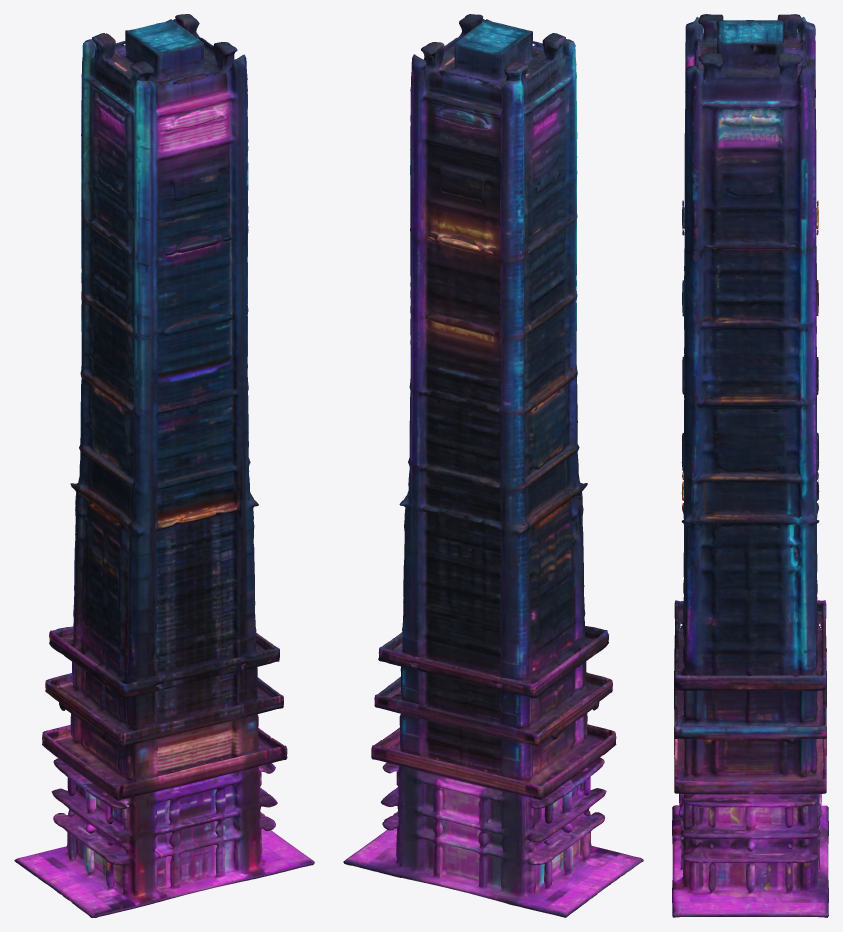
The model's file is Subject_100_story_me_0213120706.fbx.
3 views of the same model, side by side, from view 1: azimuth 30°, elevation 25°; view 2: azimuth 150°, elevation 25°; view 3: azimuth 270°, elevation 25° (orthographic).
Parts seen in each view (by area): view 1: Mesh_0; view 2: Mesh_0; view 3: Mesh_0.
Boxes of the visible parts, box(x1,y1,x2,y2) form: Mesh_0: box(14, 14, 314, 917); Mesh_0: box(343, 14, 643, 917); Mesh_0: box(672, 14, 828, 917).
Size of the model in its own units: 56.68 by 200 by 34.18.
1 material, 1 textured.
